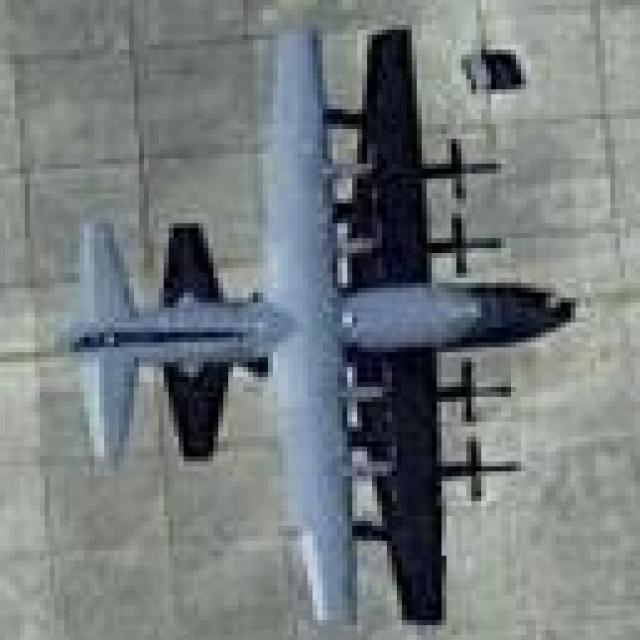C-130_TopDown: (51, 27, 578, 626)
